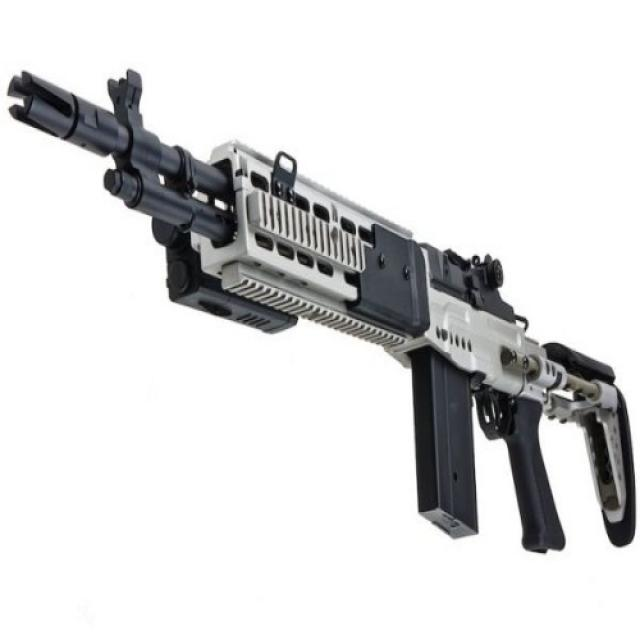Gun: (12, 41, 637, 567)
